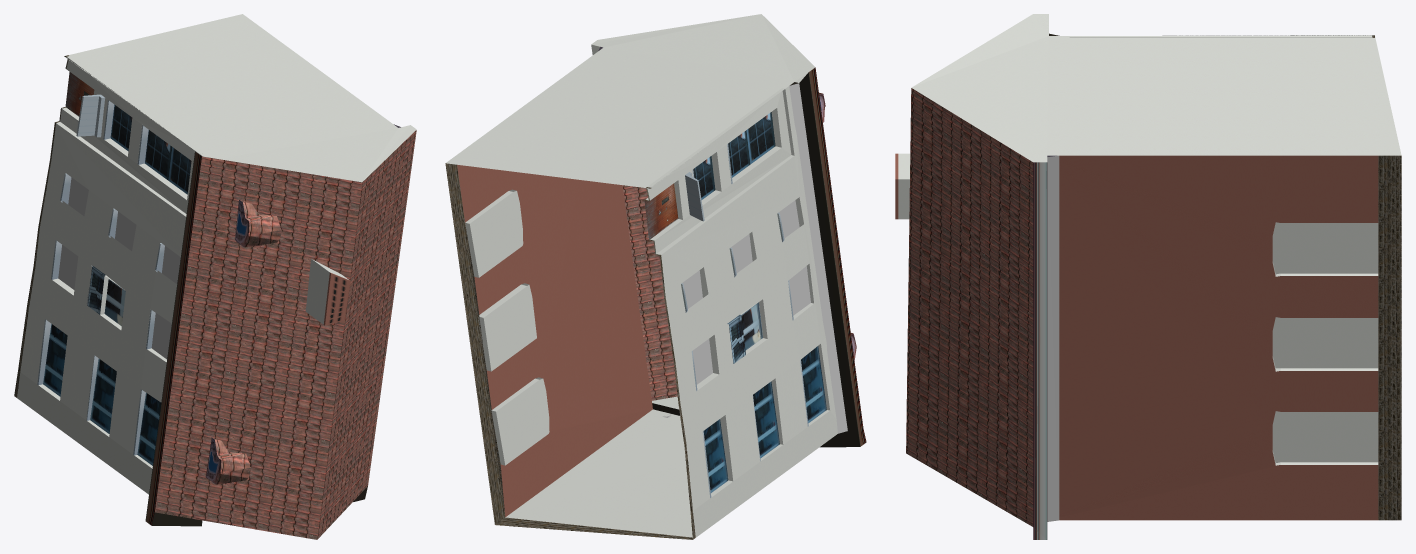
File: Myyrivahe_29-origo.obj
3 views of the same model, side by side, from view 1: azimuth 30°, elevation 25°; view 2: azimuth 150°, elevation 25°; view 3: azimuth 270°, elevation 25° (orthographic). The views are drawn at different scales.
Visible parts, largest first — view 1: Myyrivahe_29; view 2: Myyrivahe_29; view 3: Myyrivahe_29.
Boxes of the visible parts, bbox=[...] form: Myyrivahe_29: bbox=[14, 14, 416, 539]; Myyrivahe_29: bbox=[445, 14, 866, 539]; Myyrivahe_29: bbox=[895, 14, 1401, 539].
Size of the model in its own units: 10.88 by 15 by 15.8.
